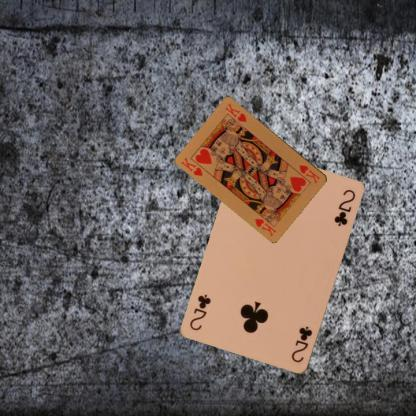2c: (289, 324, 314, 364)
Kh: (178, 154, 204, 178), (297, 162, 321, 184)
